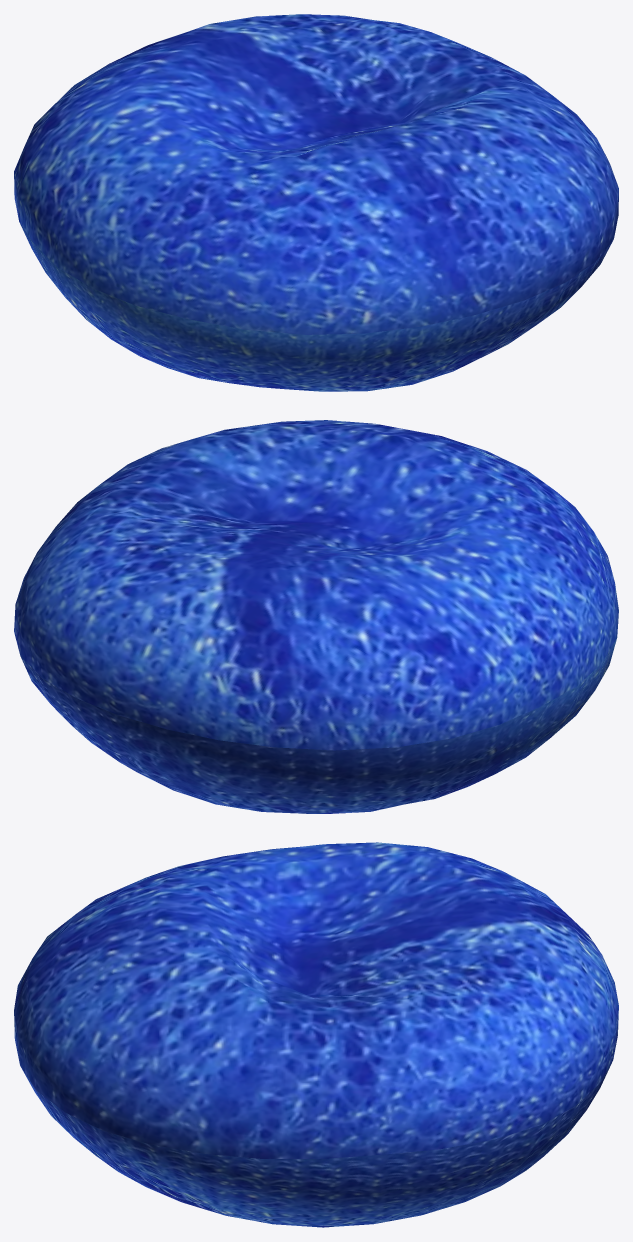
The model's file is Nylon_scrubber.fbx.
3 views of the same model, one above another, from view 1: azimuth 30°, elevation 25°; view 2: azimuth 150°, elevation 25°; view 3: azimuth 270°, elevation 25° (orthographic). The views are drawn at different scales.
Parts seen in each view (by area): view 1: Nylon_scrubber; view 2: Nylon_scrubber; view 3: Nylon_scrubber.
Part boxes in pixels (left/top/right/bottom): Nylon_scrubber: left=14, top=14, right=618, bottom=391; Nylon_scrubber: left=14, top=420, right=618, bottom=813; Nylon_scrubber: left=14, top=842, right=618, bottom=1227.
Size of the model in its own units: 12.42 by 5.89 by 12.66.
